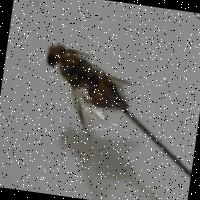Oriental-fruit-fly: (29, 36, 142, 152)
